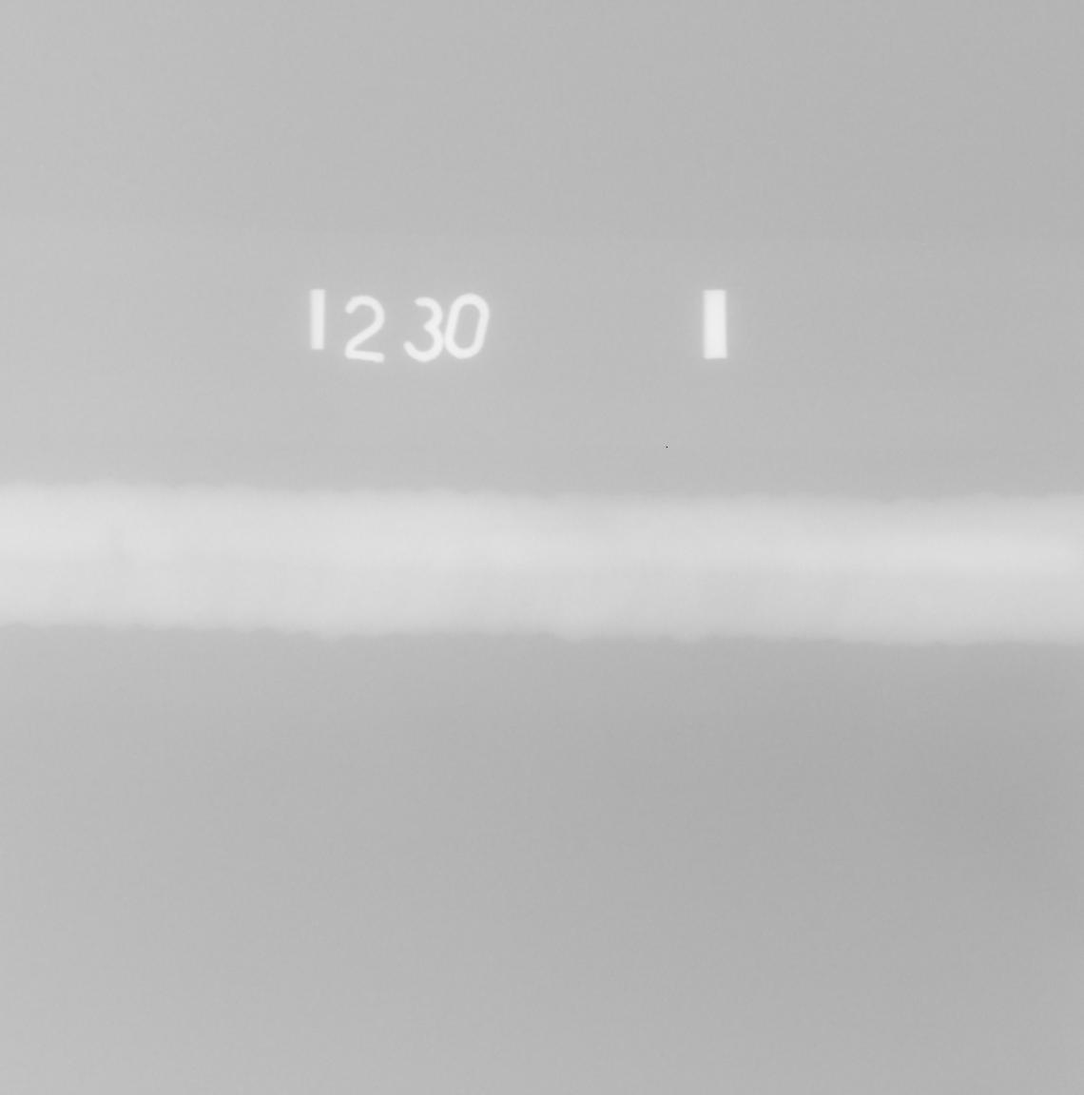Pore/Porosity: (391, 555, 396, 561), (894, 577, 900, 582), (302, 583, 307, 587)
